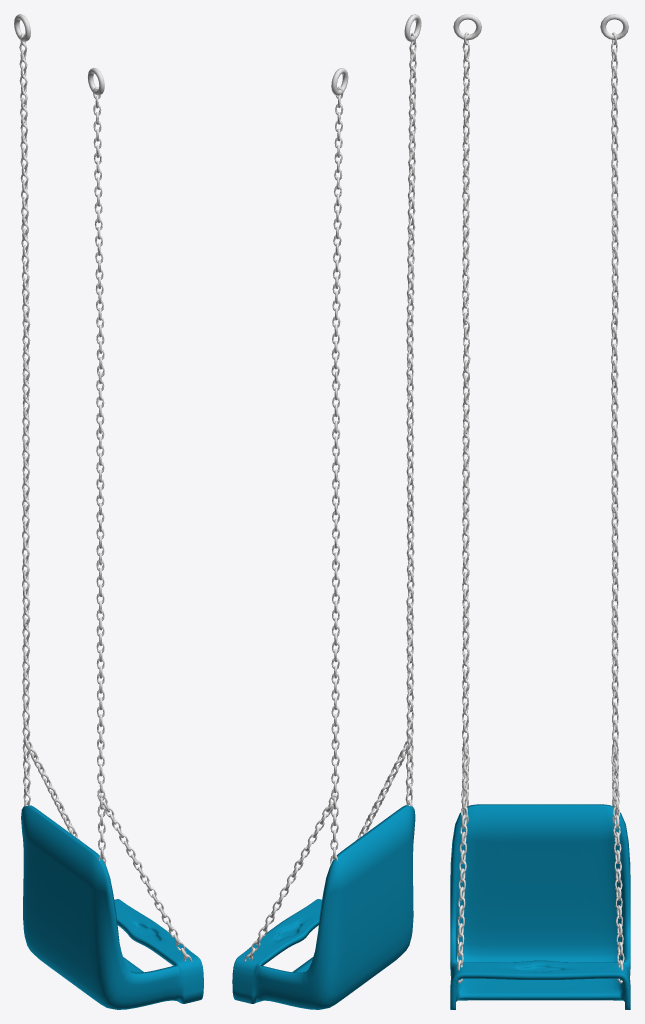
File: BS__b10.8fefbf69.glb
3 views of the same model, side by side, from view 1: azimuth 30°, elevation 25°; view 2: azimuth 150°, elevation 25°; view 3: azimuth 270°, elevation 25° (orthographic).
Visible parts, largest first — view 1: Plane038,_colorize_, Torus006, Torus; view 2: Plane038,_colorize_, Torus006, Torus; view 3: Plane038,_colorize_, Torus006, Torus.
Boxes of the visible parts, x1,y1,x2,y2 form: Plane038,_colorize_: (21,805,203,1009); Torus006: (19,33,192,961); Torus: (14,14,104,95); Plane038,_colorize_: (232,805,415,1009); Torus006: (244,32,416,961); Torus: (331,14,421,95); Plane038,_colorize_: (450,804,630,1009); Torus006: (457,32,624,983); Torus: (453,14,628,40).
Bounding box in the file's own units: 0.2799 × 2.41 × 0.4157.
